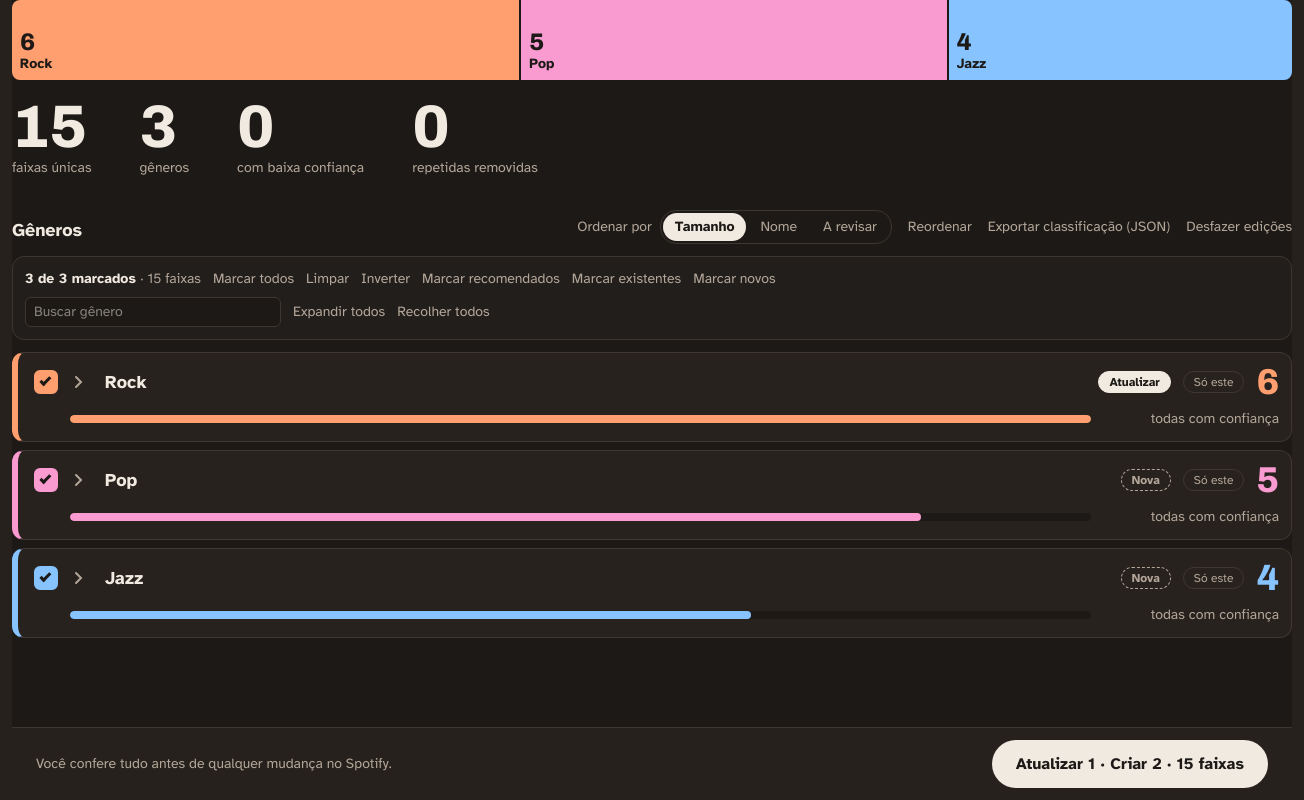
Test: existing genre playlists › splits the footer and checks existing or new genres only
This screenshot has width=1304, height=800.
Expected: the button "Atualizar 1 · Criar 2 · 15 faixas" is shown, [992,740,1268,788]
Click the button "Marcar existentes": (626, 279) [572,269,681,289]
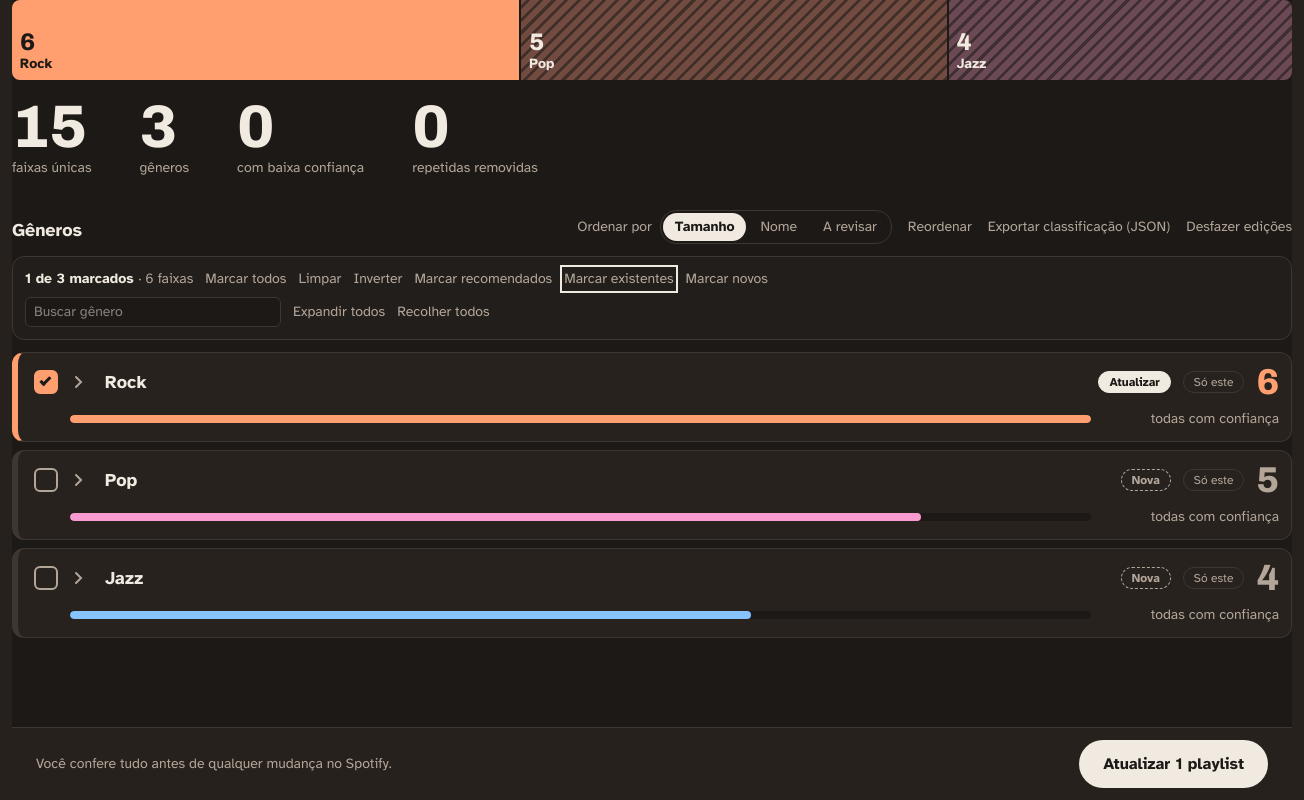
Result: the button "Atualizar 1 playlist" is shown at [1079,740,1268,788]
Click the button "Marcar novos": (727, 279) [686,269,768,289]
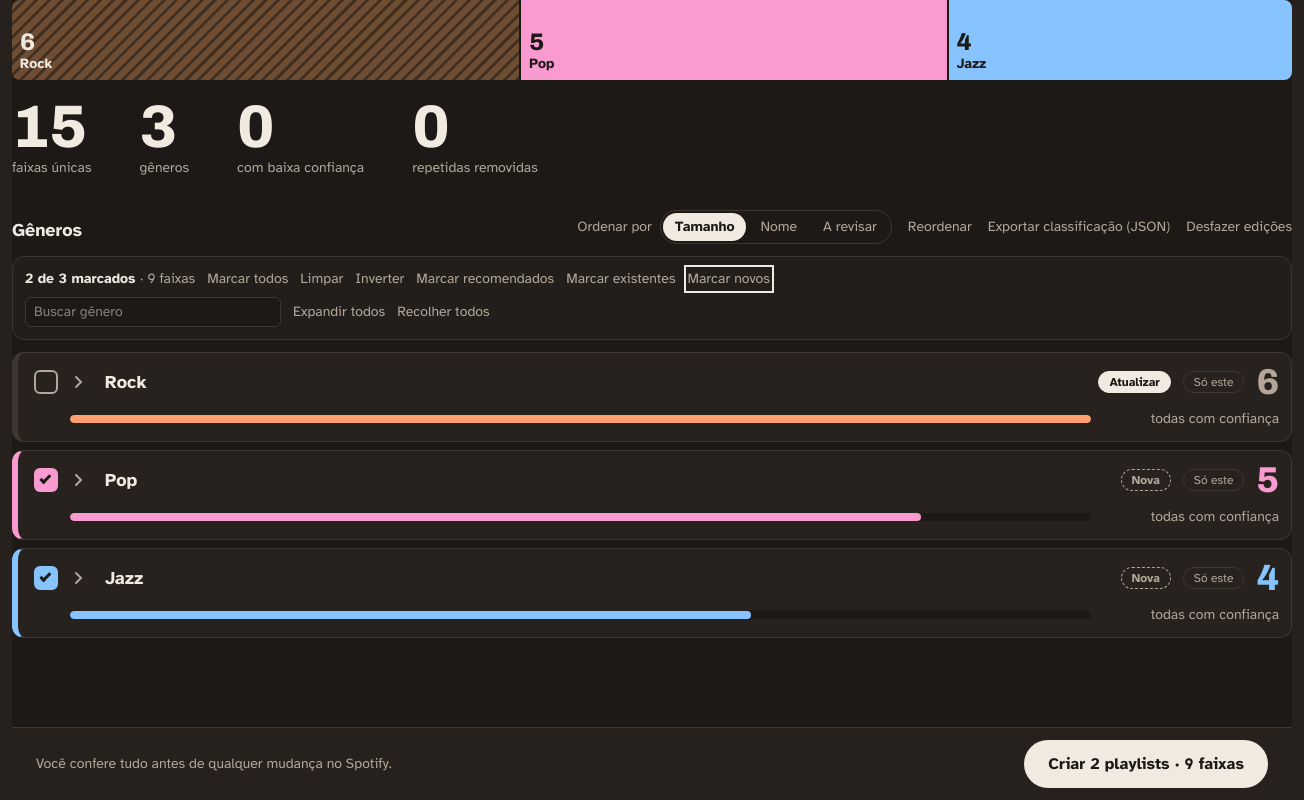
Result: the button "Criar 2 playlists · 9 faixas" is shown at [1024,740,1268,788]
